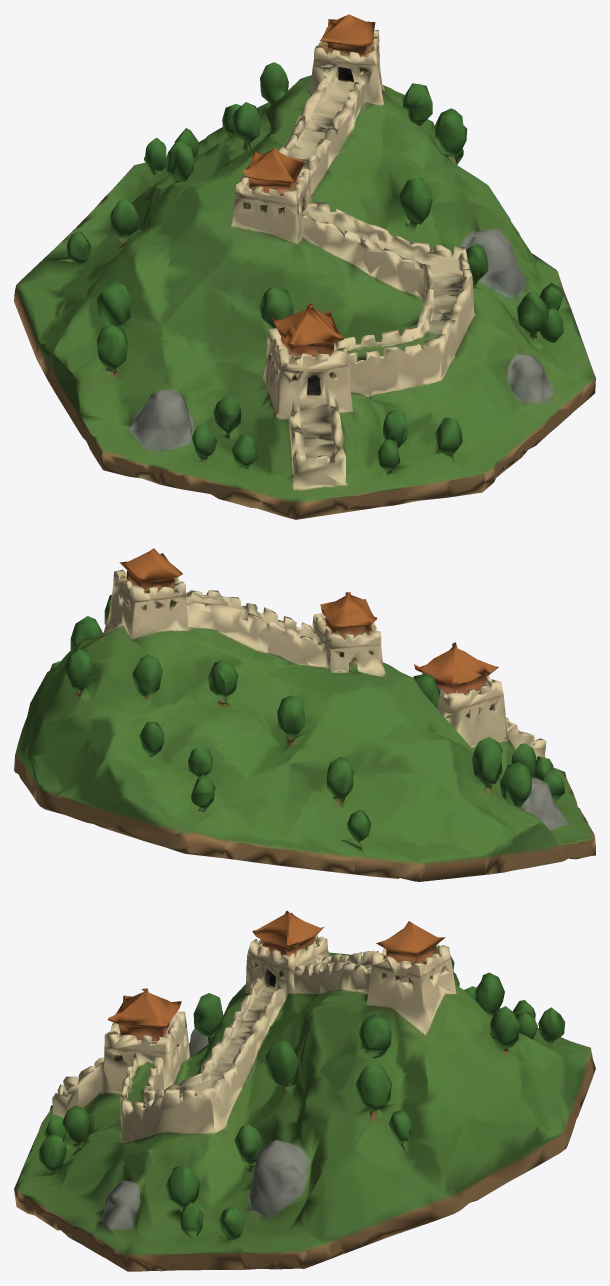
File: grande-muralha.glb
The picture shows the model from 3 angles, top to bottom: view 1: azimuth 30°, elevation 25°; view 2: azimuth 150°, elevation 25°; view 3: azimuth 270°, elevation 25°; orthographic projection.
Visible parts, largest first — view 1: tripo_node_97677425-f15c-4bf4-b275-e1cfc13967b8; view 2: tripo_node_97677425-f15c-4bf4-b275-e1cfc13967b8; view 3: tripo_node_97677425-f15c-4bf4-b275-e1cfc13967b8.
Boxes of the visible parts, box(x1,y1,x2,y2) form: tripo_node_97677425-f15c-4bf4-b275-e1cfc13967b8: box(14, 14, 595, 519); tripo_node_97677425-f15c-4bf4-b275-e1cfc13967b8: box(14, 548, 595, 881); tripo_node_97677425-f15c-4bf4-b275-e1cfc13967b8: box(14, 910, 595, 1271).
Bounding box in the file's own units: 0.9897 × 0.6008 × 0.9992.
1 material, 1 textured.
